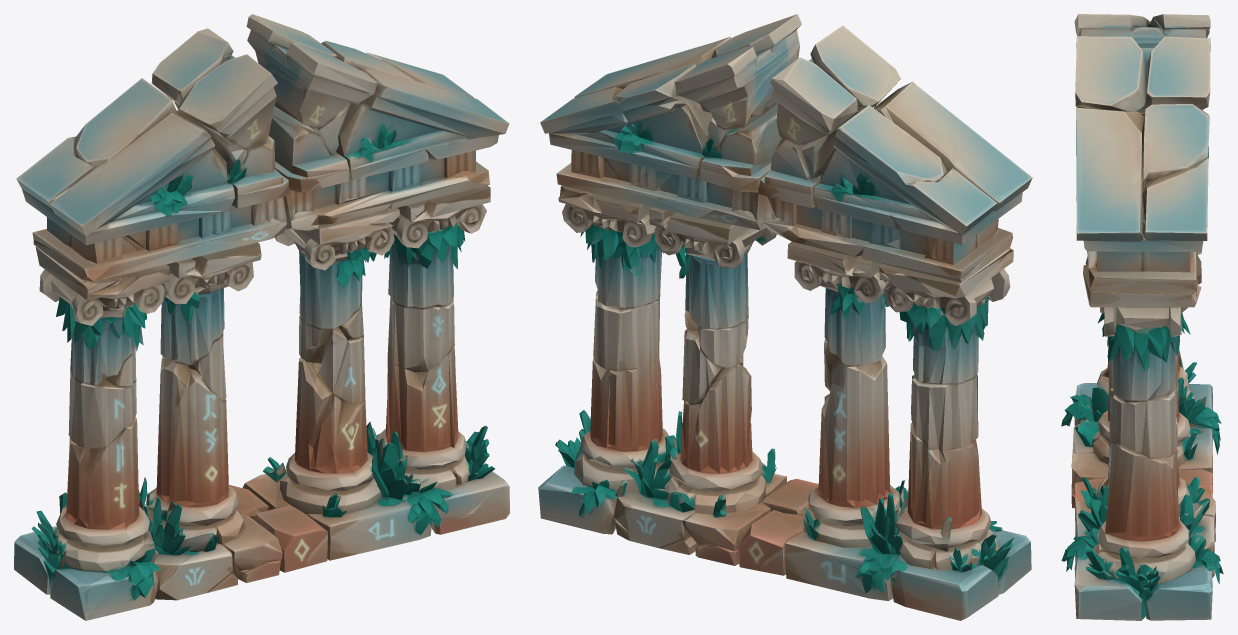
The model's file is fake-exchange-ruins.glb.
3 renders of one model, left to right at view 1: azimuth 30°, elevation 25°; view 2: azimuth 150°, elevation 25°; view 3: azimuth 270°, elevation 25°, orthographic.
Size of the model in its own units: 1.8 by 1.9 by 0.5675.
1 material, 1 textured.
